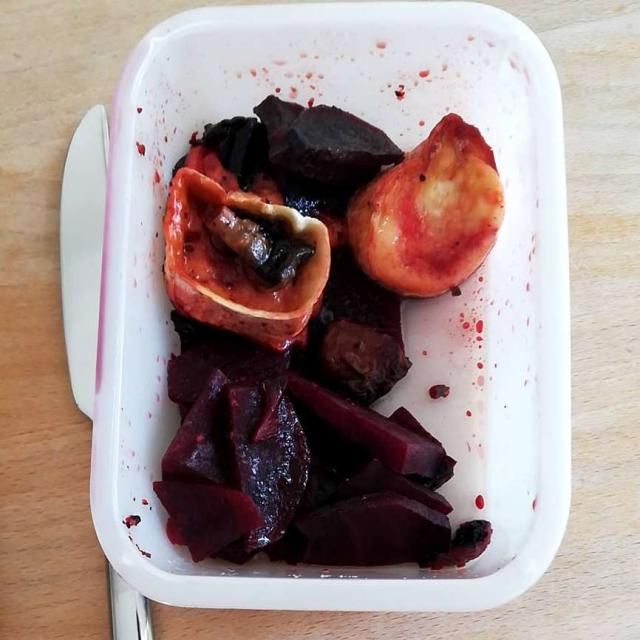beetroot-steamed-without-addition-of-salt: (175, 120, 484, 566)
goat-cheese-soft: (150, 117, 516, 355)
